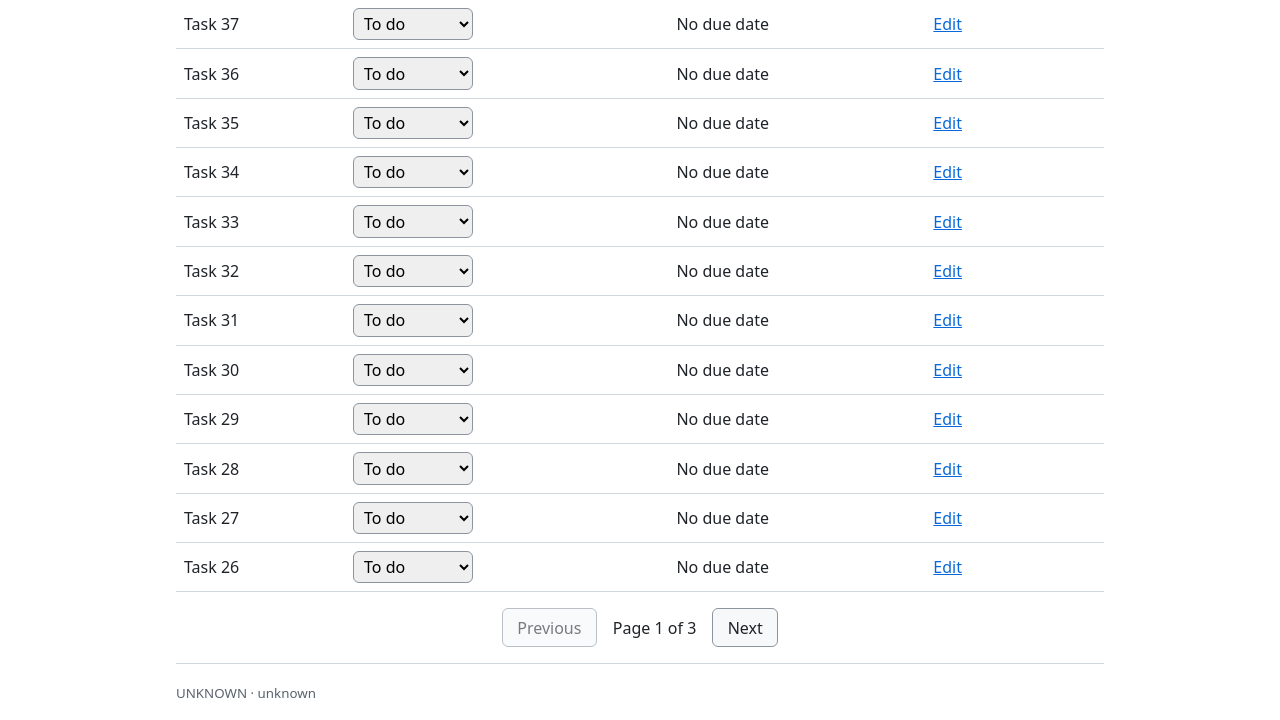
Scenario: SCRUM-1 task list › SCRUM-1-AC-02, SCRUM-1-AC-12: Previous/Next load adjacent pages via ?page and disable at the bounds
(page scrolled)
Expected: the text "Page 1 of 3" is shown, [613,616,696,640]
Expected: the button "Previous" is disabled, [502,608,597,647]
Click the button "Next".
click(745, 628)  # box [712,608,778,647]
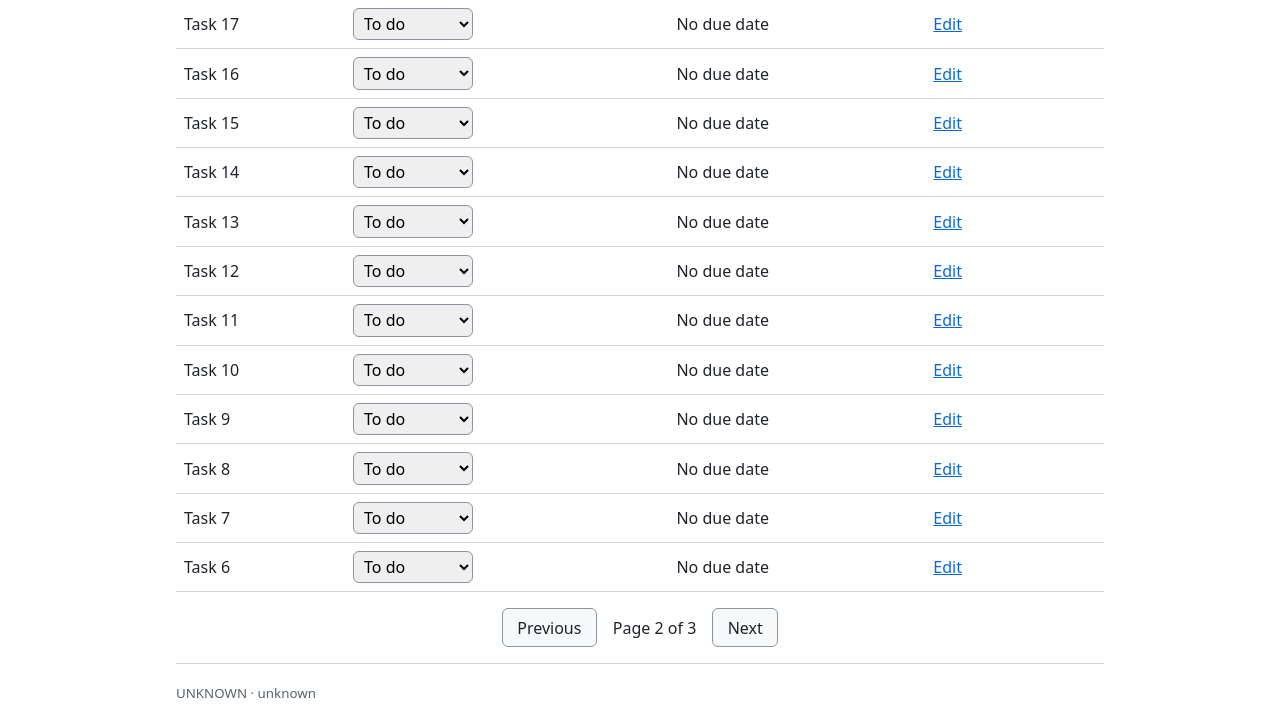
Now the text "Page 2 of 3" is shown, box [613,616,696,640]
Click the button "Next".
click(745, 628)  # box [712,608,778,647]
(page scrolled)
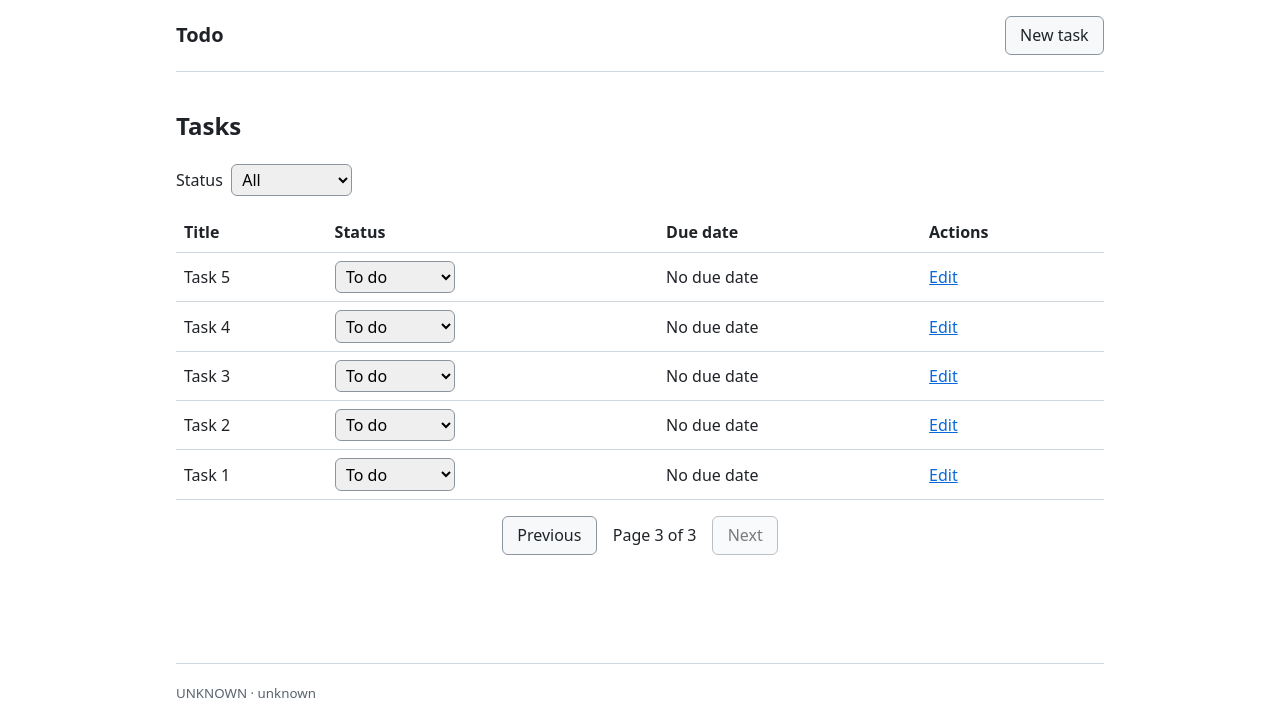
Now the text "Page 3 of 3" is shown, box [613,523,696,547]
Now the button "Next" is disabled, box [712,516,778,555]
Click the button "Previous".
click(549, 535)  # box [502,516,597,555]
(page scrolled)
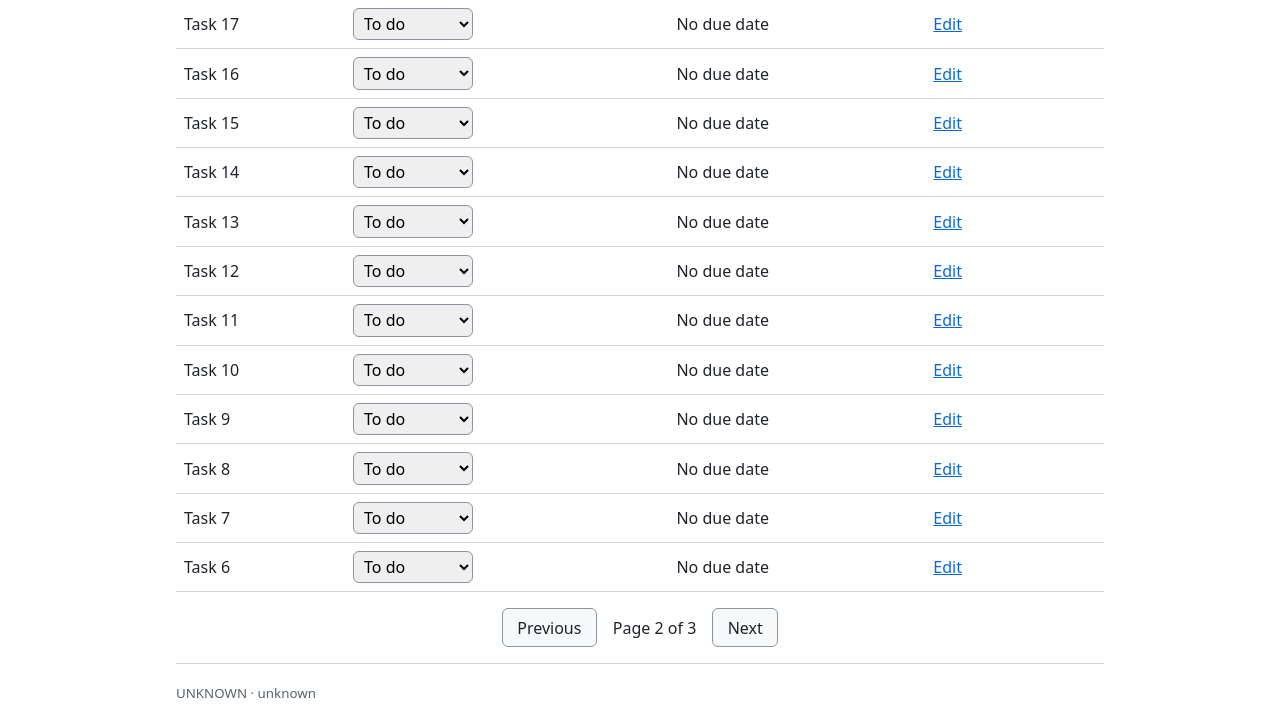
Now the text "Page 2 of 3" is shown, box [613,616,696,640]
